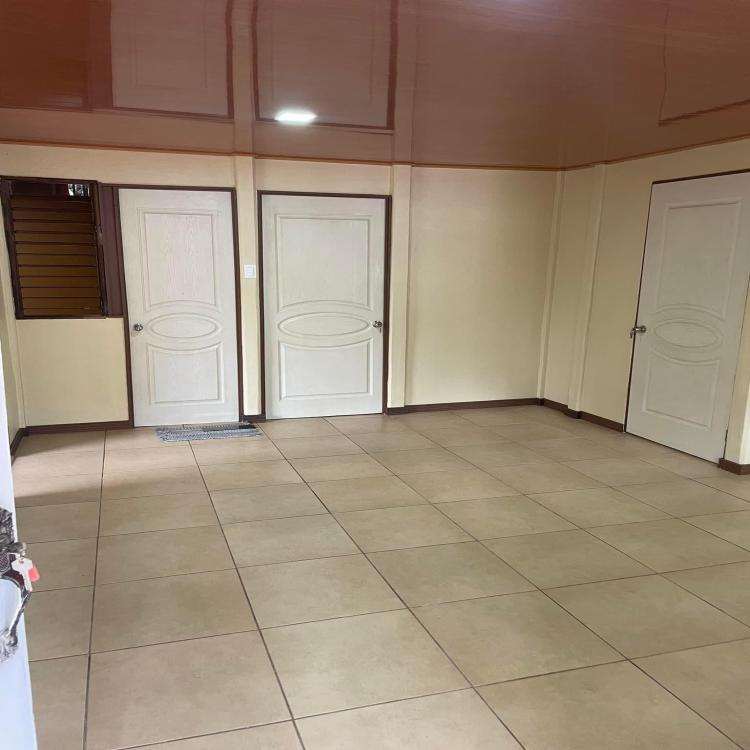ClosedDoor: (630, 166, 747, 469), (252, 188, 397, 424), (109, 182, 239, 419)
